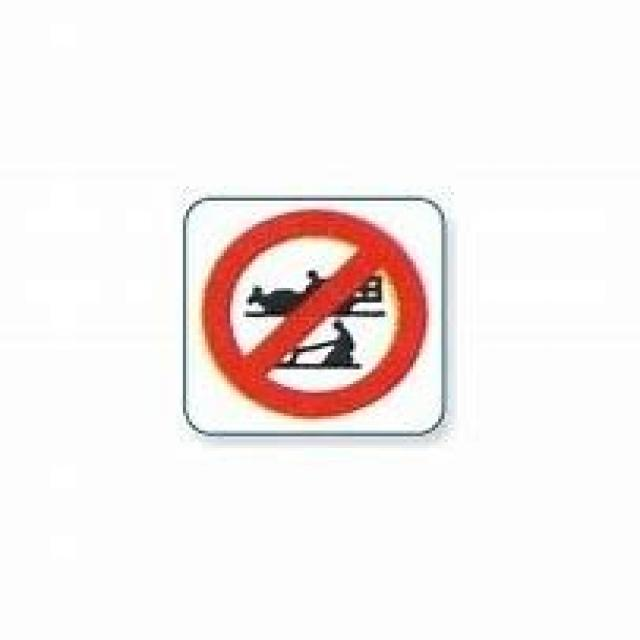BULLOCK_AND_HANDCART_PROHIBITED: (176, 186, 451, 454)
